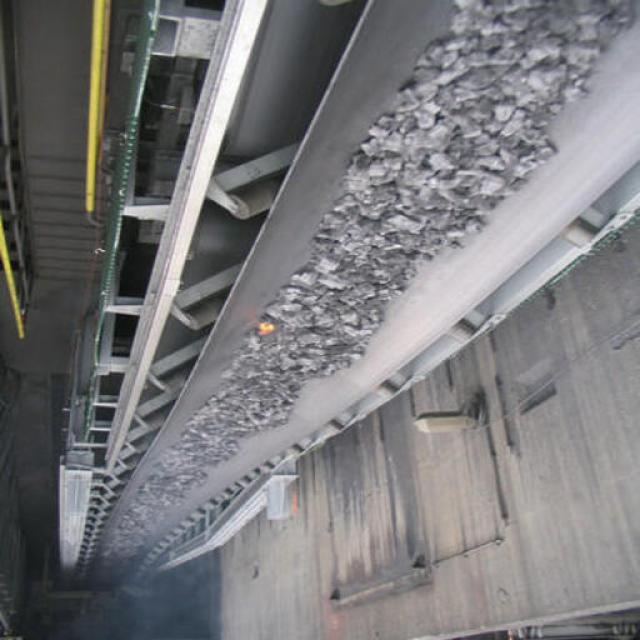conveyor: (71, 0, 640, 592)
